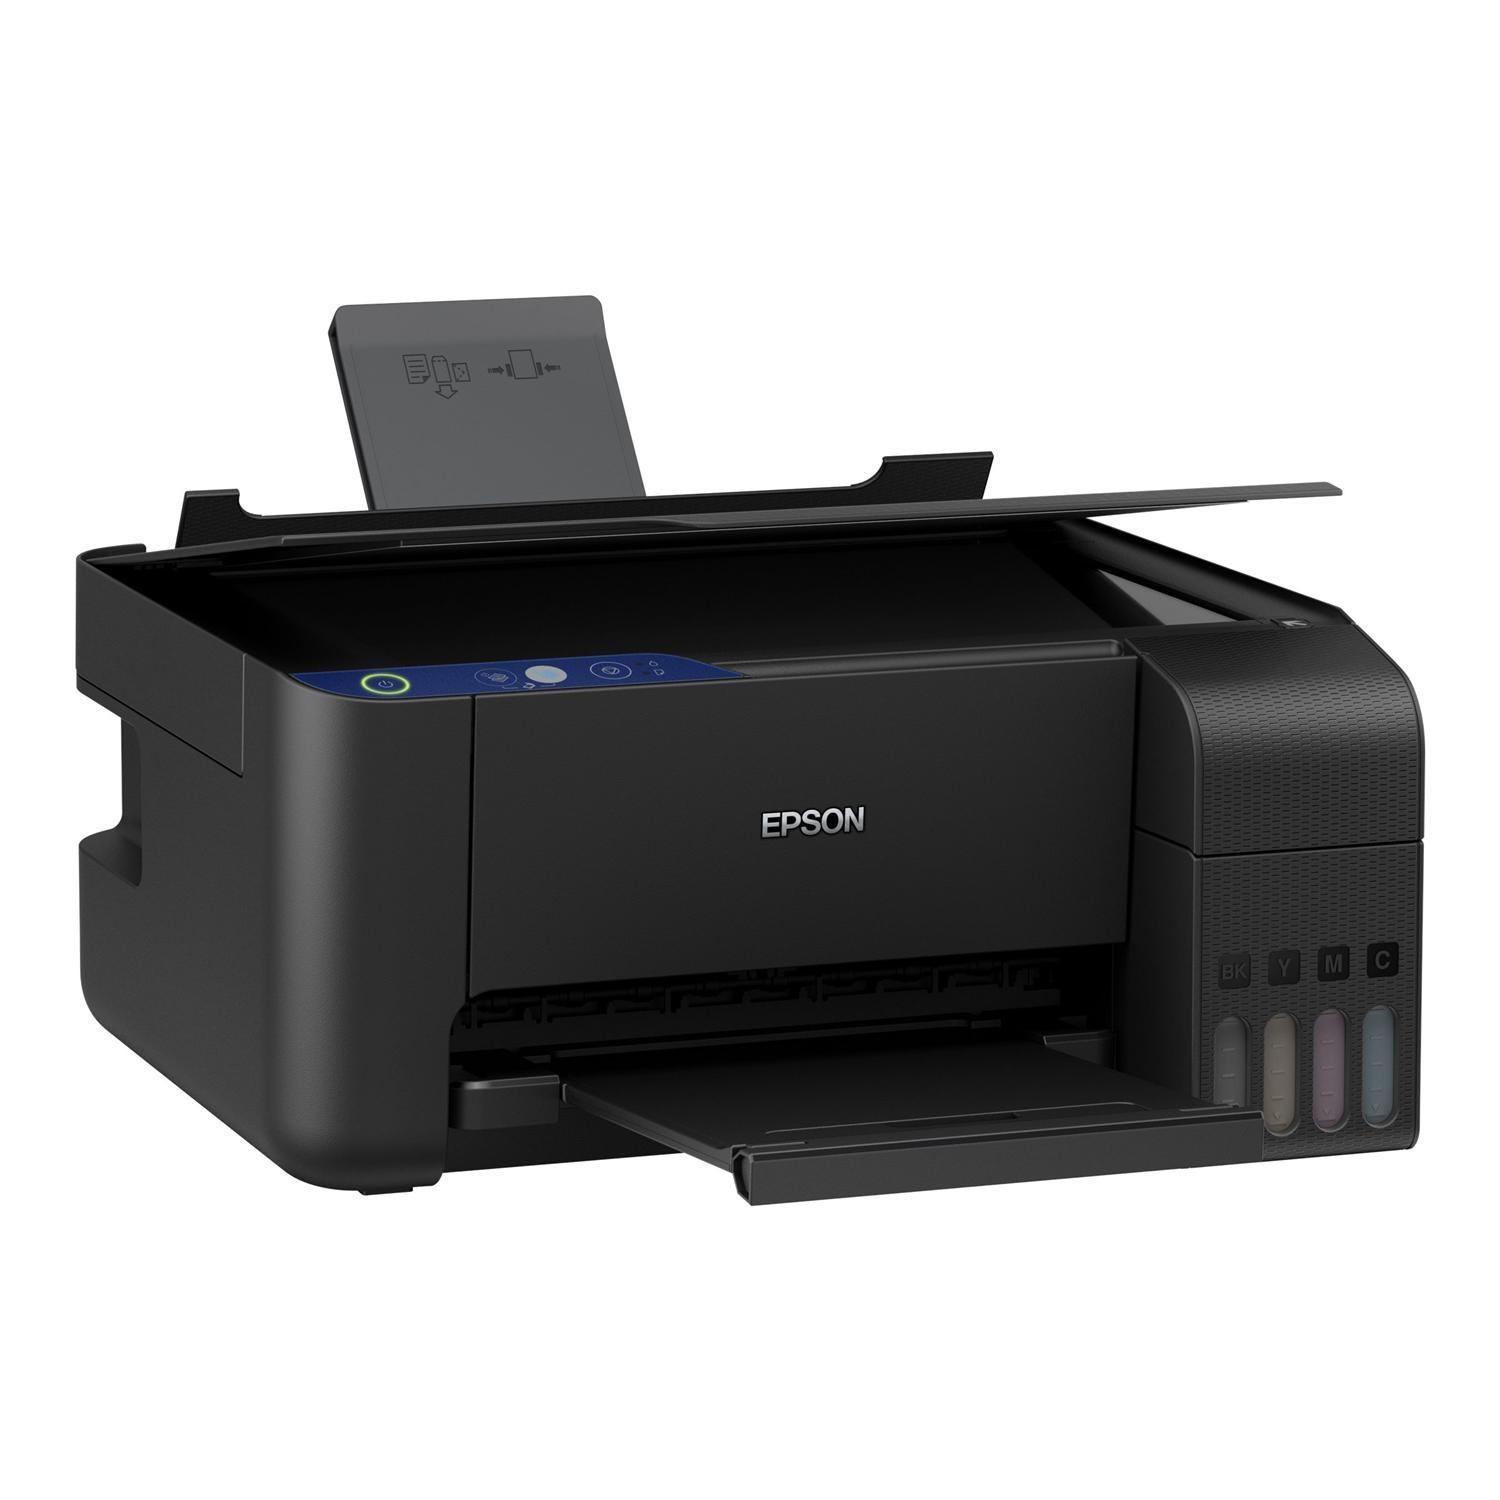Printer: (70, 293, 1430, 1207)
